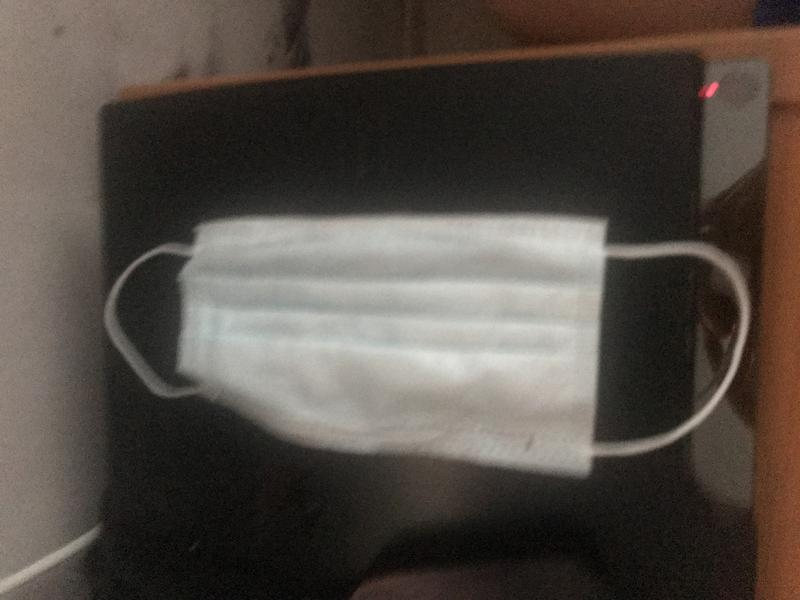medical_mask: (106, 214, 751, 480)
